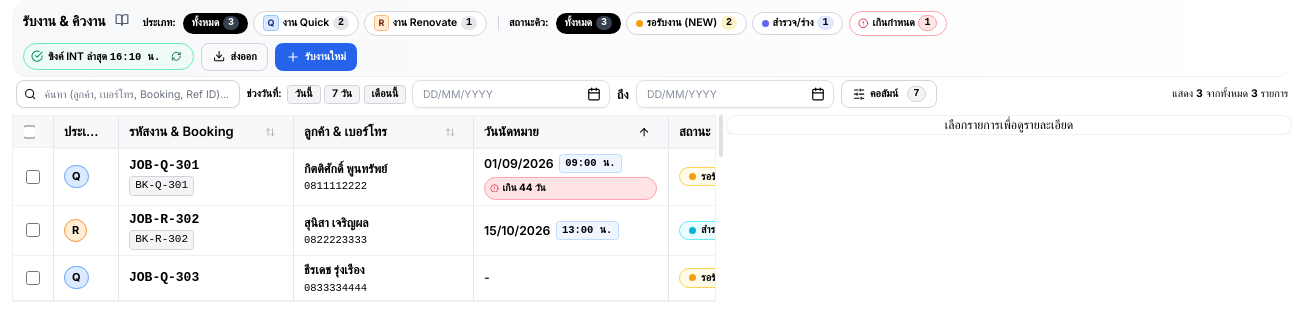
it: Phase 3 — Toolbar, Filters, Bulk Accept & INT Sync › 2. Date Presets (วันนี้, 7 วัน, เดือนนี้) › applies "วันนี้" preset and sets date range inputs
The image size is (1304, 319).
Click the button "วันนี้" at x=304, y=94, box 287,84 -> 321,104
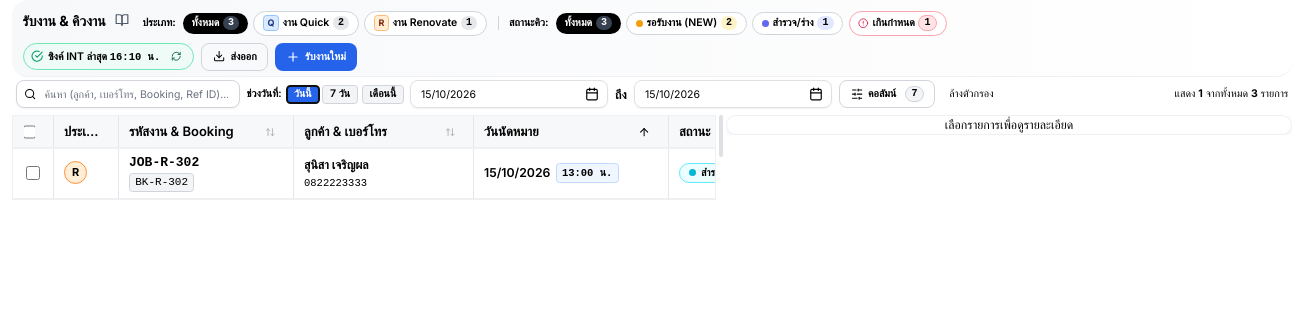
Check: the text "สุนิสา เจริญผล" is shown, box 304,157 -> 368,172
Check: the text "กิตติศักดิ์ พูนทรัพย์" is gone
